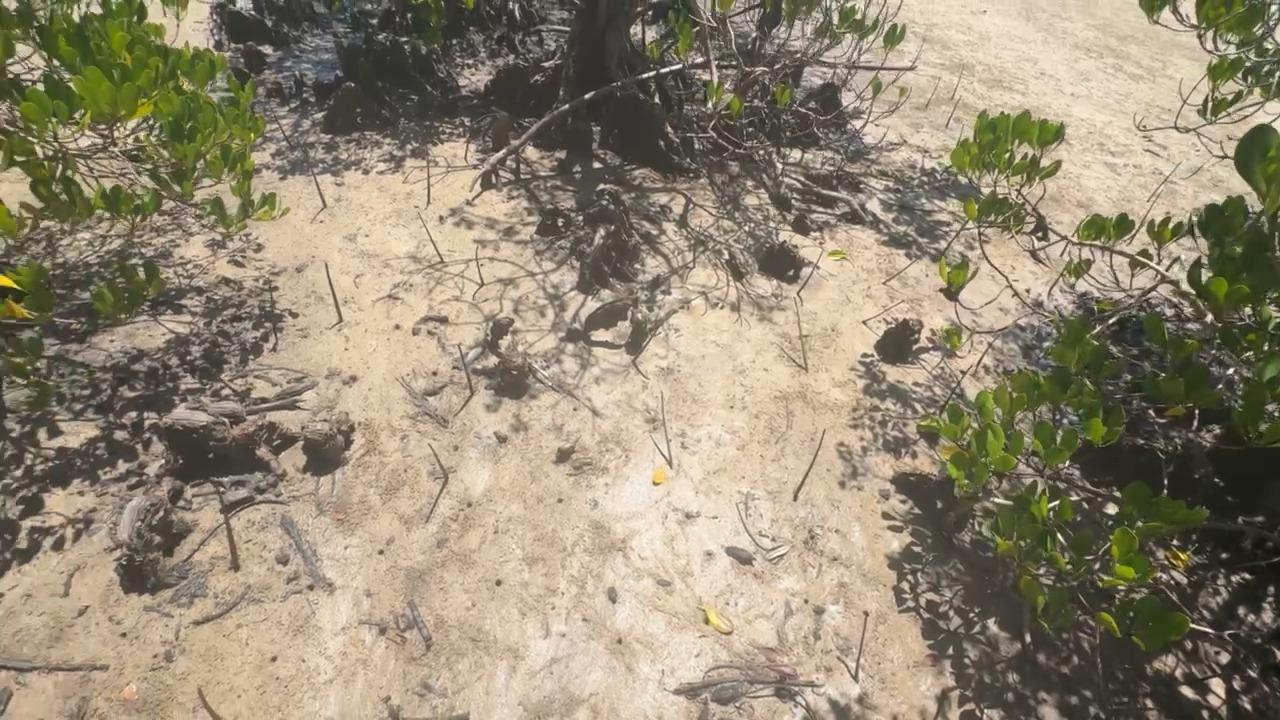Tree: (211, 481, 240, 573), (793, 428, 826, 502), (1125, 189, 1164, 244), (1145, 160, 1185, 200), (418, 211, 445, 262), (796, 249, 825, 294), (267, 102, 294, 149), (325, 262, 344, 322), (941, 219, 971, 257), (660, 391, 674, 470), (854, 611, 869, 683), (862, 299, 905, 324), (793, 297, 807, 372), (632, 327, 658, 363), (457, 344, 474, 396), (882, 260, 917, 285), (428, 443, 450, 478), (196, 688, 220, 720), (268, 281, 280, 344), (310, 168, 327, 209), (949, 63, 965, 101), (945, 95, 962, 128), (925, 77, 941, 107), (475, 246, 486, 286), (426, 145, 431, 204), (464, 136, 471, 161), (956, 124, 964, 144), (693, 235, 696, 269)
